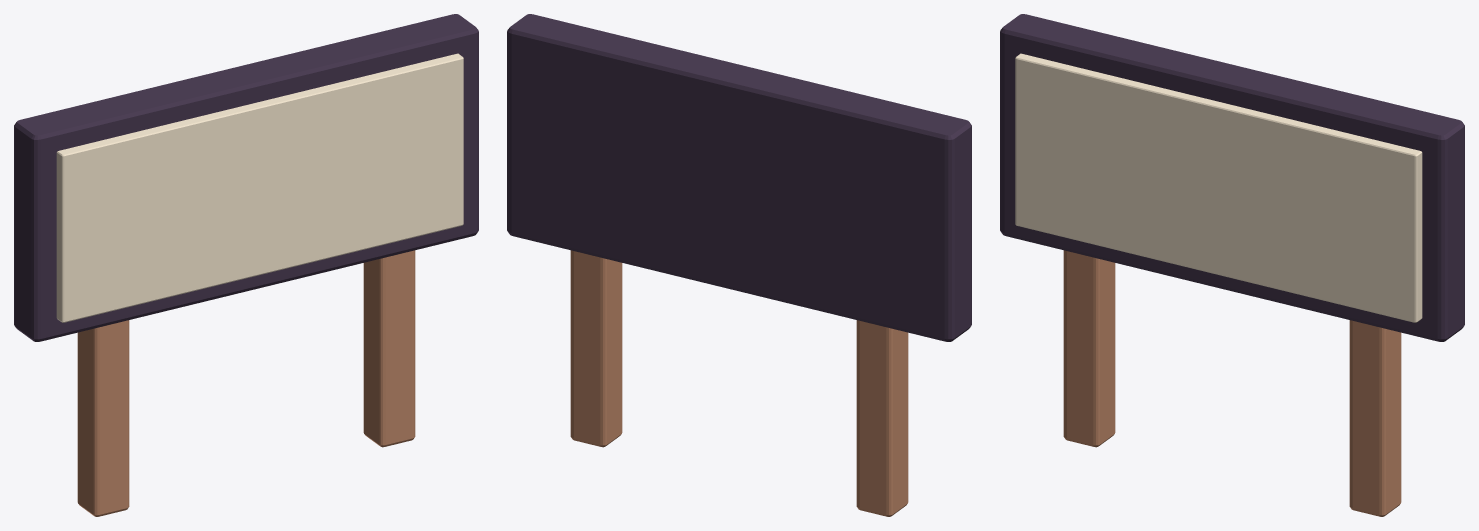
Rendered from receipt_board.glb.
3 renders of one model, left to right at view 1: azimuth 30°, elevation 25°; view 2: azimuth 150°, elevation 25°; view 3: azimuth 330°, elevation 25°, orthographic.
Parts seen in each view (by area): view 1: panel, frame, model; view 2: frame, model; view 3: panel, frame, model.
Part boxes in pixels (x1=…): panel: x1=56, y1=53, x2=463, y2=322; frame: x1=14, y1=14, x2=478, y2=341; model: x1=77, y1=250, x2=415, y2=516; frame: x1=507, y1=14, x2=971, y2=341; model: x1=570, y1=250, x2=908, y2=516; panel: x1=1015, y1=53, x2=1422, y2=322; frame: x1=1000, y1=14, x2=1464, y2=341; model: x1=1063, y1=250, x2=1401, y2=516.
Size of the model in its own units: 1 by 0.85 by 0.11.
